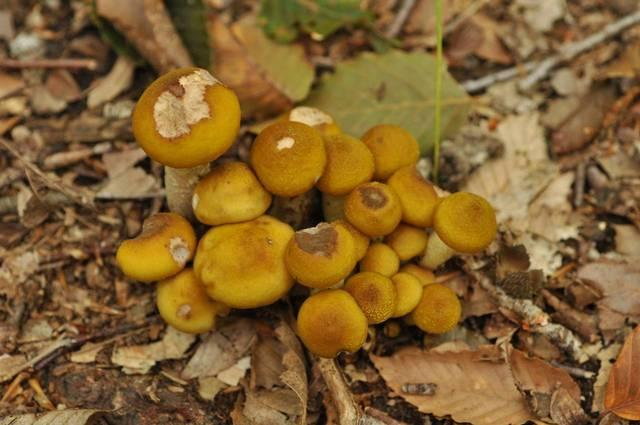edible_mushroom: (115, 65, 498, 359)
